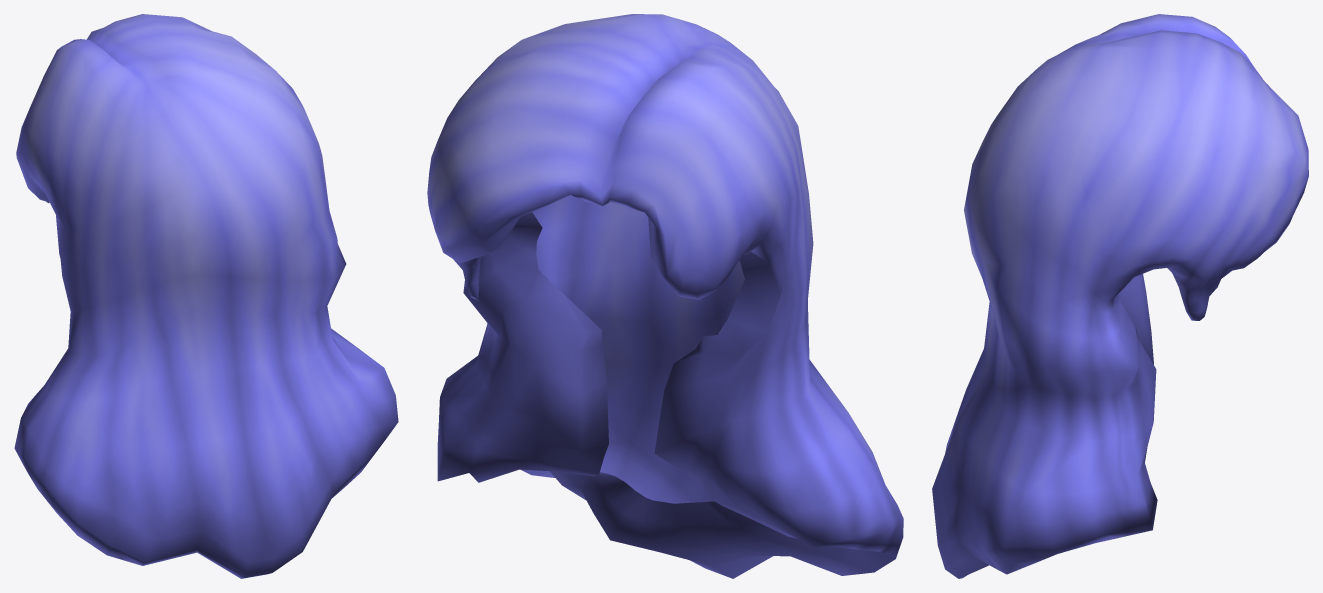
File: Hair_Female_003_textured_sky.glb
The picture shows the model from 3 angles, left to right: view 1: azimuth 30°, elevation 25°; view 2: azimuth 150°, elevation 25°; view 3: azimuth 270°, elevation 25°; orthographic projection. The views are drawn at different scales.
Parts seen in each view (by area): view 1: Hair_Female_003; view 2: Hair_Female_003; view 3: Hair_Female_003.
Boxes of the visible parts, x1,y1,x2,y2 form: Hair_Female_003: [14, 14, 398, 578]; Hair_Female_003: [427, 14, 903, 578]; Hair_Female_003: [932, 14, 1308, 578].
Size of the model in its own units: 0.2864 by 0.3854 by 0.2514.
1 material, 1 textured.
